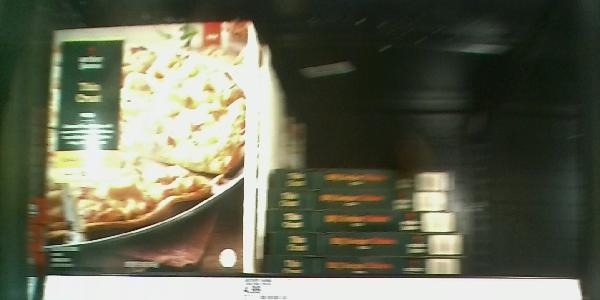pizza1: (45, 21, 252, 274), (264, 231, 465, 257), (265, 208, 458, 234), (269, 164, 454, 186), (267, 189, 453, 210), (262, 257, 462, 274)
